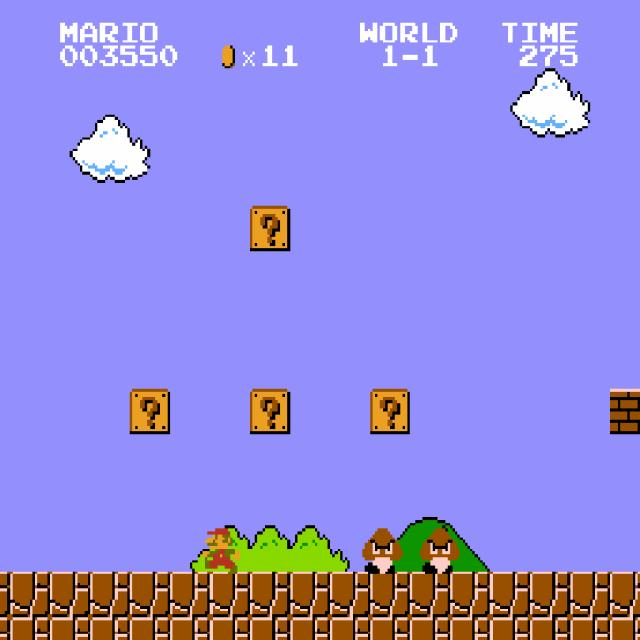brick_block: (610, 389, 640, 434)
goomba: (360, 526, 403, 574), (417, 526, 460, 574)
little_mario: (197, 526, 240, 574)
mystery_block: (130, 389, 170, 434), (250, 206, 290, 251), (250, 389, 290, 434), (370, 389, 410, 434)
undestructible_block: (10, 572, 50, 617), (50, 572, 90, 617), (90, 572, 130, 617), (130, 572, 170, 617), (170, 572, 210, 617), (210, 572, 250, 617), (250, 572, 290, 617), (290, 572, 330, 617), (330, 572, 370, 617), (370, 572, 410, 617), (410, 572, 450, 617), (450, 572, 490, 617), (490, 572, 530, 617), (530, 572, 570, 617), (570, 572, 610, 617), (610, 572, 640, 617), (10, 617, 50, 640), (50, 617, 90, 640), (90, 617, 130, 640), (130, 617, 170, 640), (170, 617, 210, 640), (210, 617, 250, 640), (250, 617, 290, 640), (290, 617, 330, 640), (330, 617, 370, 640), (370, 617, 410, 640), (410, 617, 450, 640), (450, 617, 490, 640), (490, 617, 530, 640), (530, 617, 570, 640), (570, 617, 610, 640), (610, 617, 640, 640), (0, 571, 10, 617), (0, 617, 10, 639)
